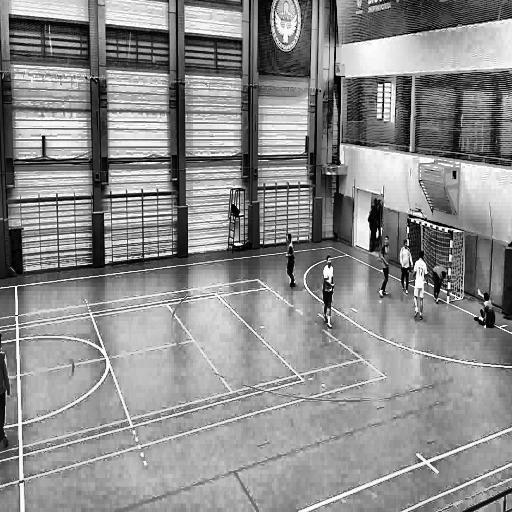player: (0, 332, 11, 452), (321, 252, 336, 329), (413, 249, 428, 323), (472, 289, 498, 329), (378, 234, 392, 300), (398, 238, 412, 296), (285, 232, 298, 293), (431, 262, 445, 306)
